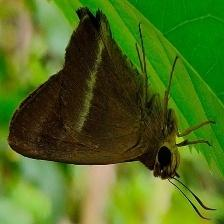butterfly: (10, 8, 180, 178)
